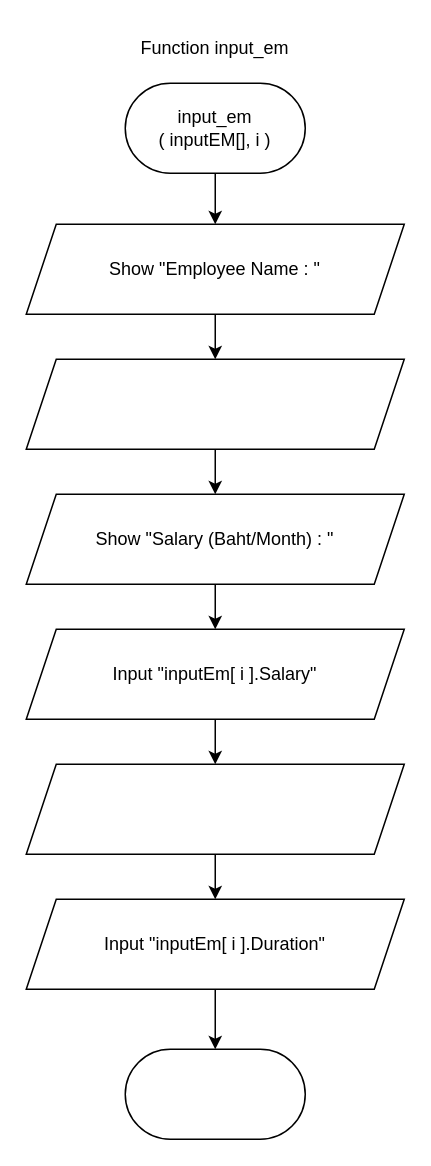
Image size: 431x1166. Some labels were removed from this diagram. Each missing label, with the box of its shape:
Input "inputEm[ i ].name": (25, 358, 404, 449)
Show "Duration (Year) : ": (25, 763, 404, 854)
Stop: (124, 1048, 305, 1139)
